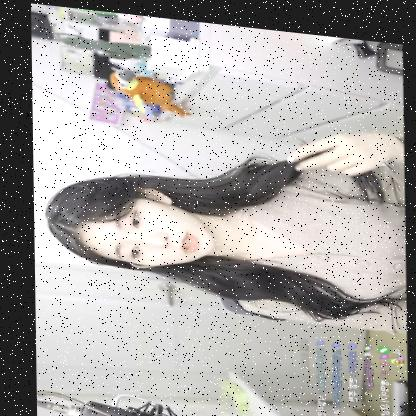streamer: (42, 96, 404, 327)
